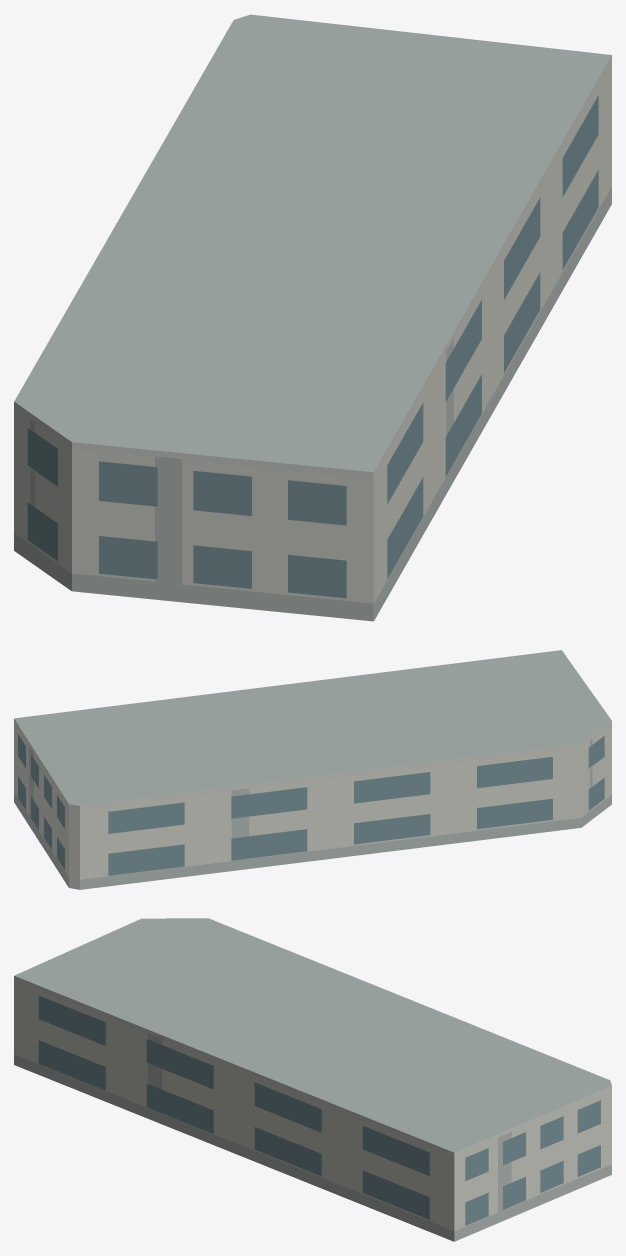
The model's file is survey-upis-32853370.glb.
3 renders of one model, top to bottom at view 1: azimuth 30°, elevation 25°; view 2: azimuth 150°, elevation 25°; view 3: azimuth 270°, elevation 25°, orthographic. The views are drawn at different scales.
Parts seen in each view (by area): view 1: survey-upis-32853370.tmp; view 2: survey-upis-32853370.tmp; view 3: survey-upis-32853370.tmp.
Boxes of the visible parts, x1,y1,x2,y2 form: survey-upis-32853370.tmp: (14,14,611,621); survey-upis-32853370.tmp: (14,650,611,889); survey-upis-32853370.tmp: (14,918,611,1241).
Size of the model in its own units: 34.4 by 6.1 by 37.07.
